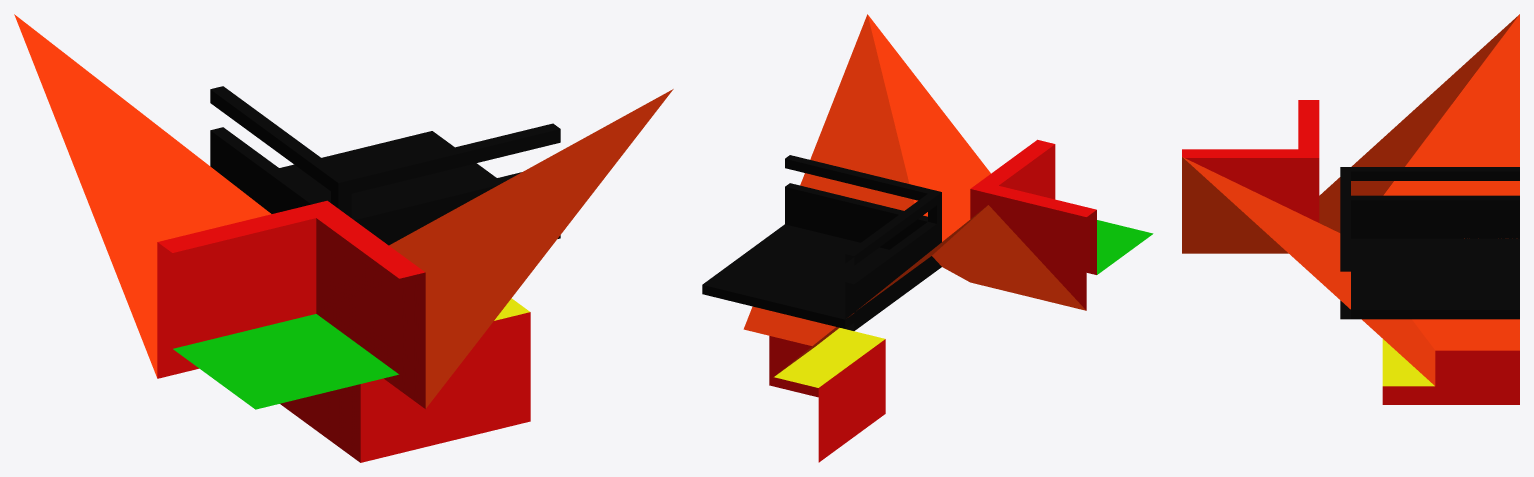
3 views of the same model, side by side, from view 1: azimuth 30°, elevation 25°; view 2: azimuth 150°, elevation 25°; view 3: azimuth 270°, elevation 25° (orthographic). The views are drawn at different scales.
Visible parts, largest first — view 1: None_P_S_E_E_S_W_E_E_None; view 2: None_P_S_E_E_S_W_E_E_None; view 3: None_P_S_E_E_S_W_E_E_None.
Part boxes in pixels (x1,y1,x2,y2): None_P_S_E_E_S_W_E_E_None: (14,14,673,462); None_P_S_E_E_S_W_E_E_None: (702,14,1153,462); None_P_S_E_E_S_W_E_E_None: (1182,14,1519,404).
Bounding box in the file's own units: 100 × 100 × 100.
